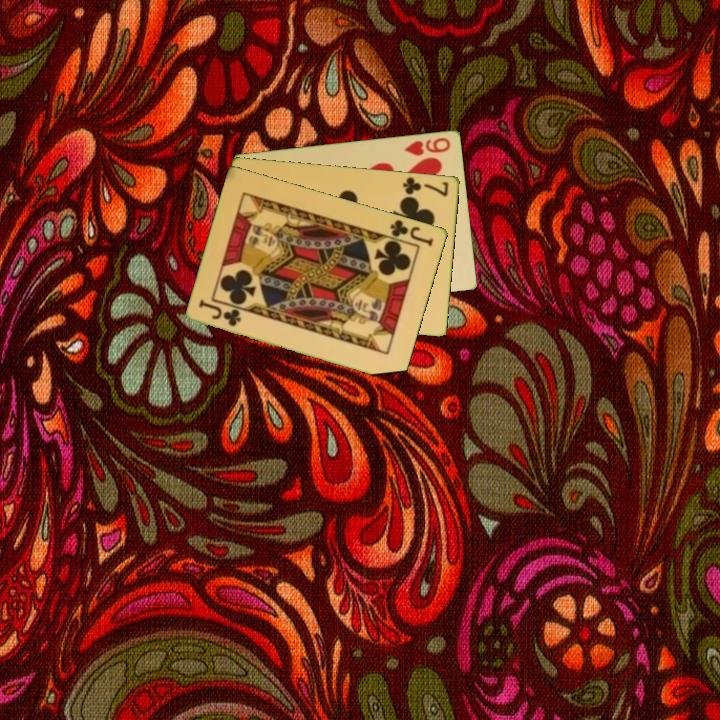7c: (400, 173, 452, 199)
9h: (401, 134, 453, 158)
Jc: (382, 216, 437, 249), (195, 297, 244, 329)
